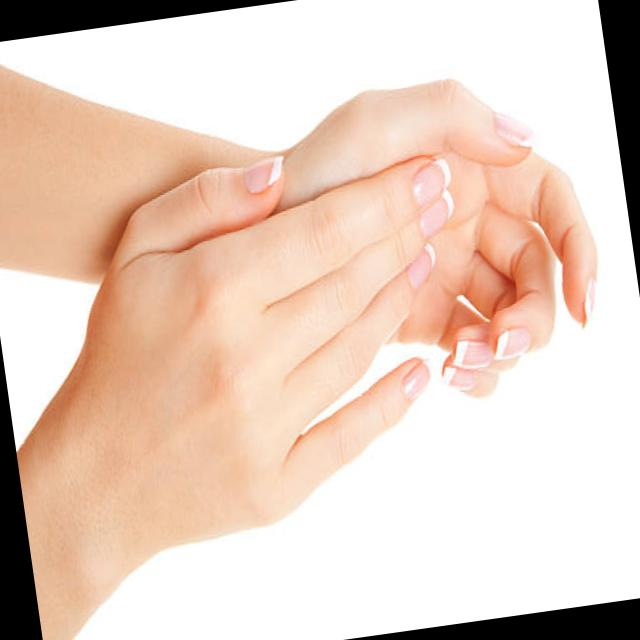Nail: (412, 158, 450, 206), (420, 189, 454, 239), (242, 157, 281, 194), (493, 112, 532, 146), (408, 243, 434, 291), (452, 340, 492, 370), (402, 361, 430, 399), (495, 328, 529, 359), (442, 365, 475, 391), (583, 277, 595, 327)
